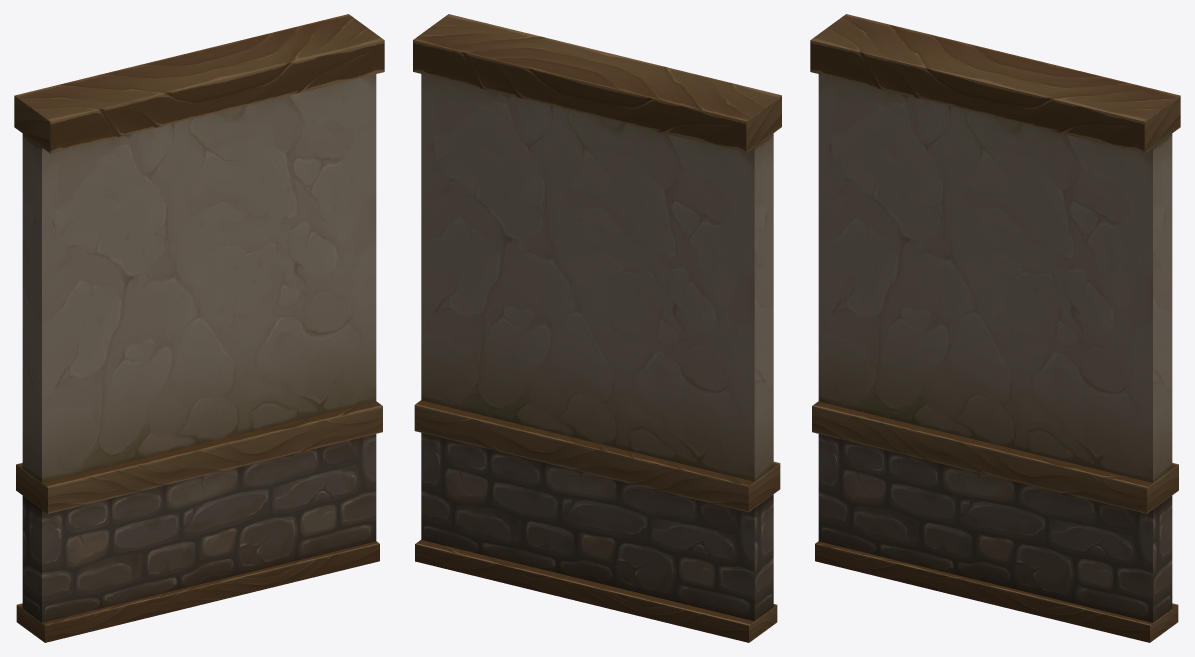
File: Wall_1_0.FBX
3 views of the same model, side by side, from view 1: azimuth 30°, elevation 25°; view 2: azimuth 150°, elevation 25°; view 3: azimuth 330°, elevation 25° (orthographic).
Parts seen in each view (by area): view 1: Wall_1_0; view 2: Wall_1_0; view 3: Wall_1_0.
Boxes of the visible parts, x1,y1,x2,y2 form: Wall_1_0: [14, 14, 384, 642]; Wall_1_0: [413, 14, 781, 642]; Wall_1_0: [810, 14, 1180, 642].
Bounding box in the file's own units: 200 × 37.03 × 300.
